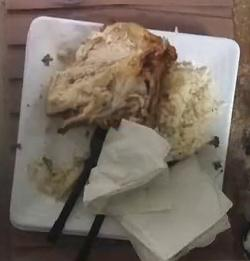chicken: (46, 22, 175, 131), (157, 62, 216, 160)
